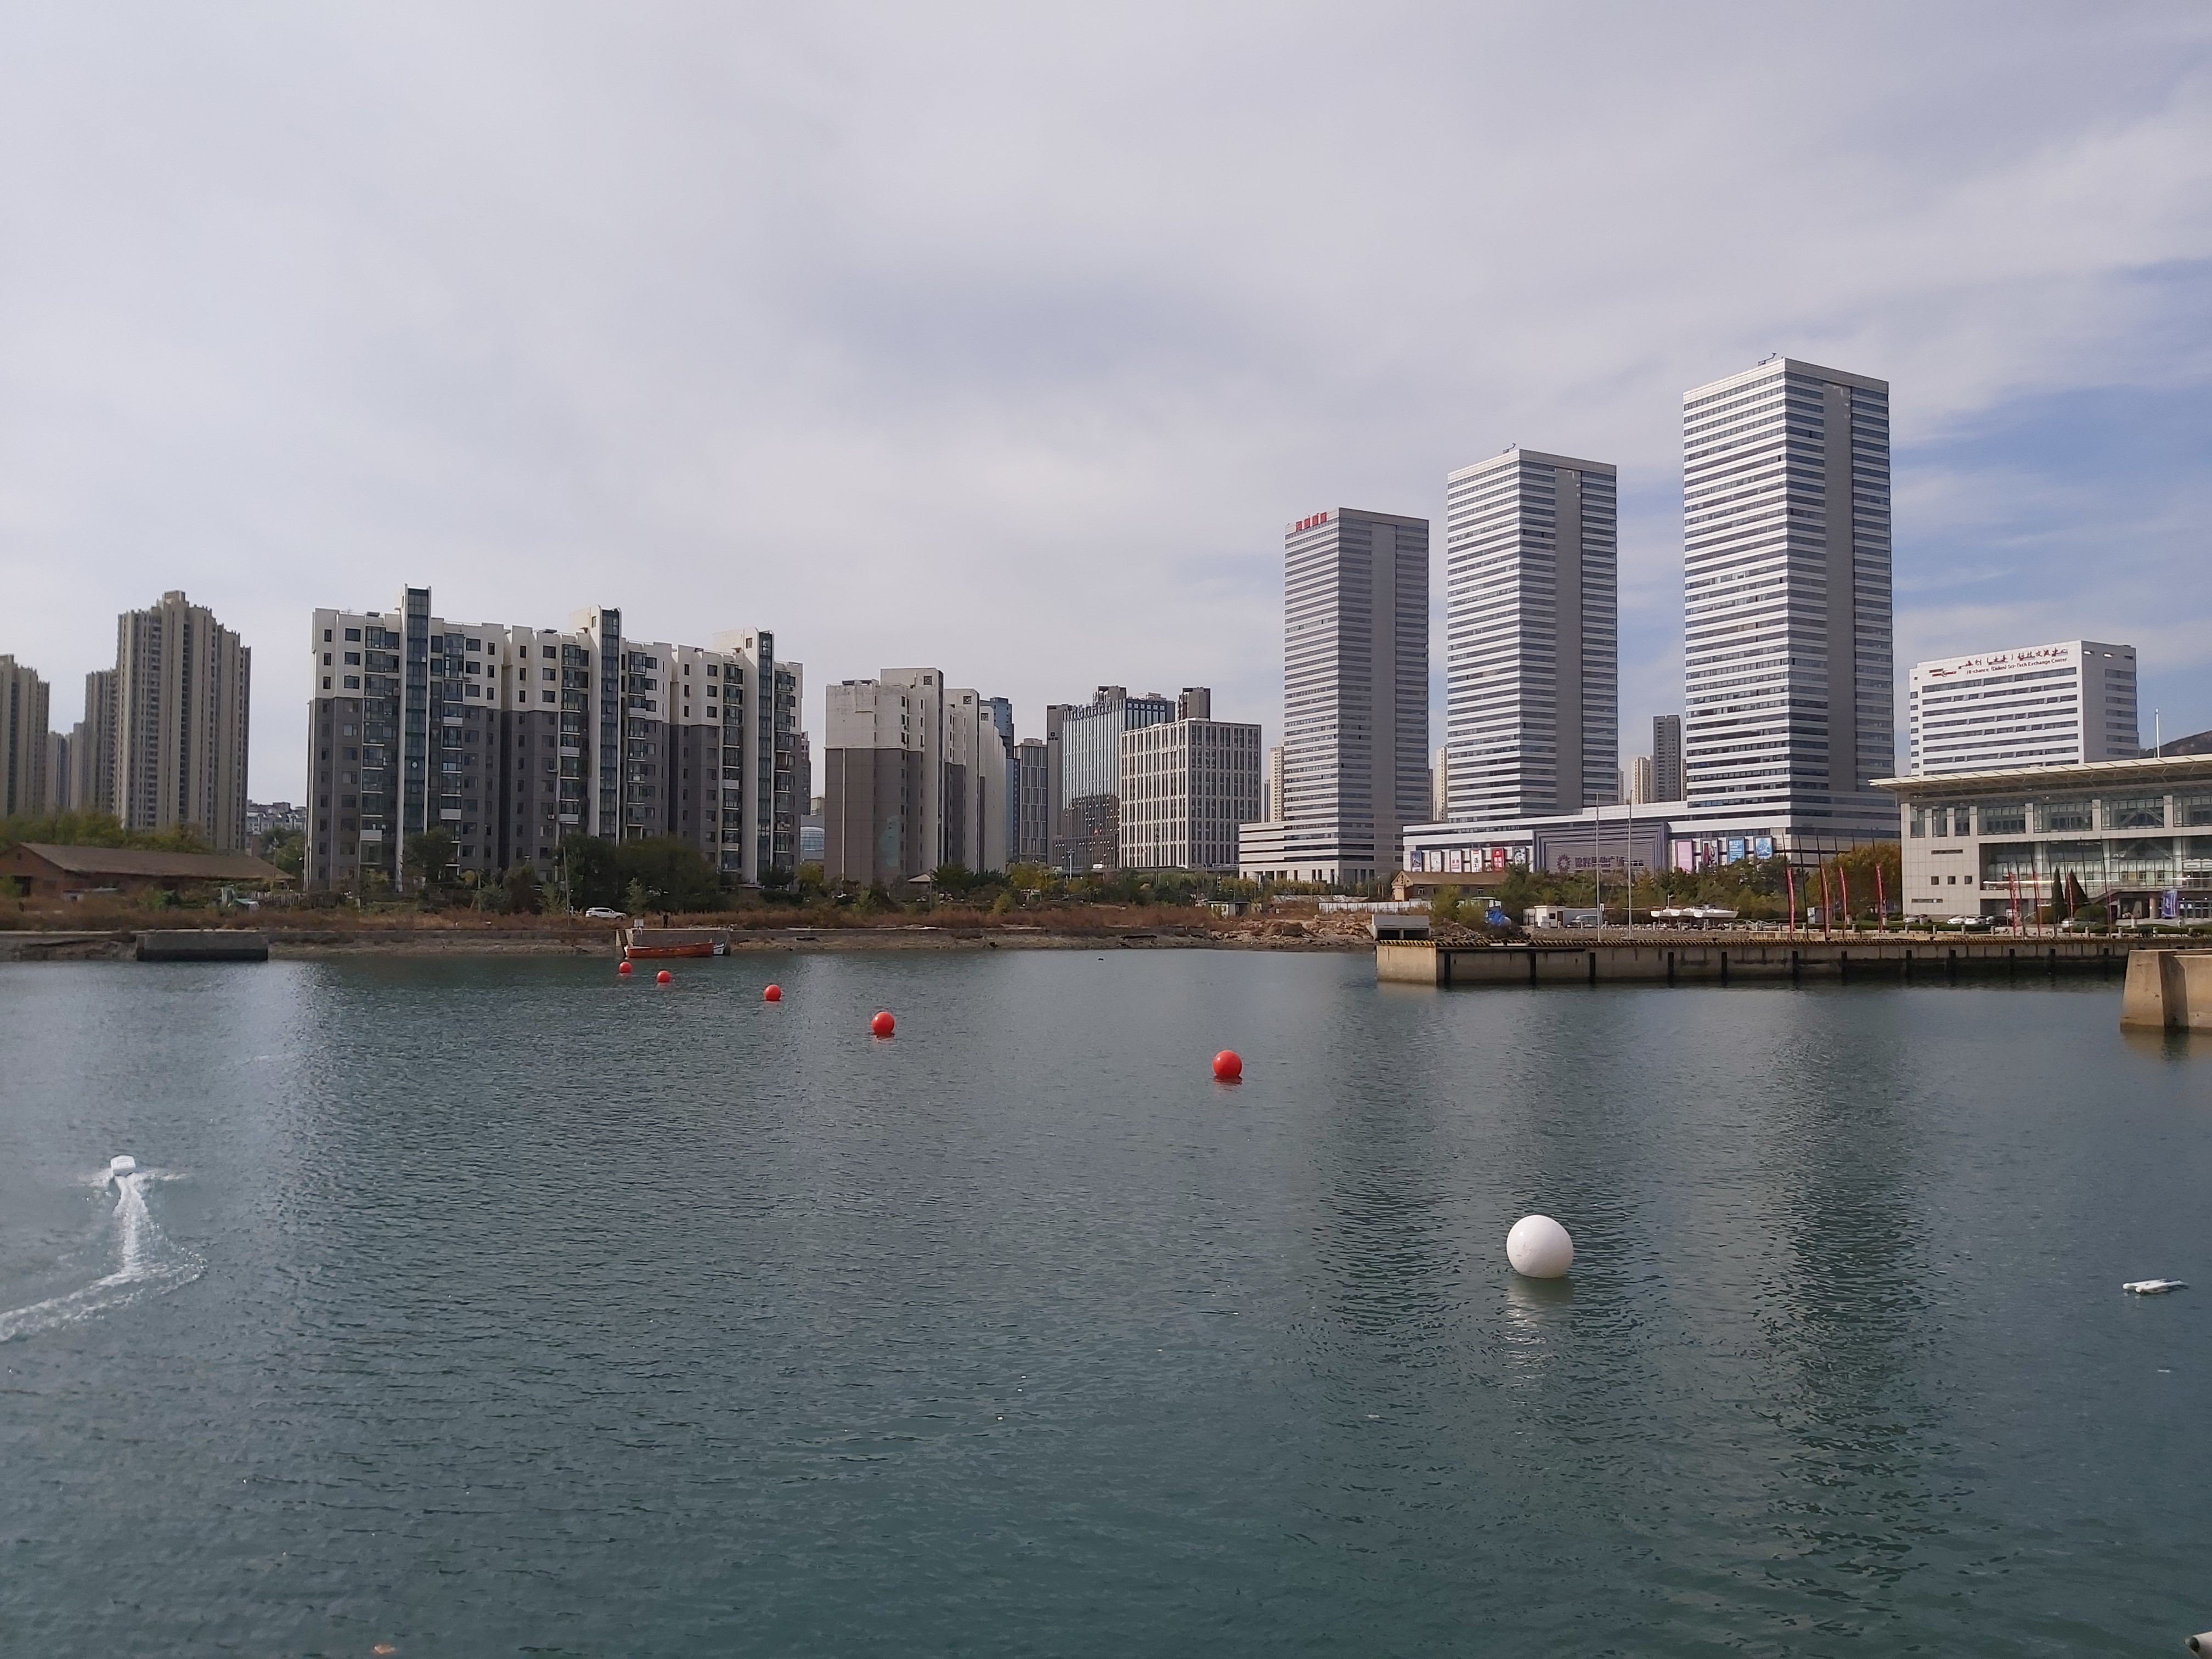ball: (1505, 1208, 1580, 1291), (864, 1012, 900, 1044), (1212, 1051, 1244, 1086)
rubbish: (2116, 1270, 2188, 1304), (111, 1148, 148, 1180)
